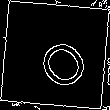O_NW: (22, 21, 88, 89)
